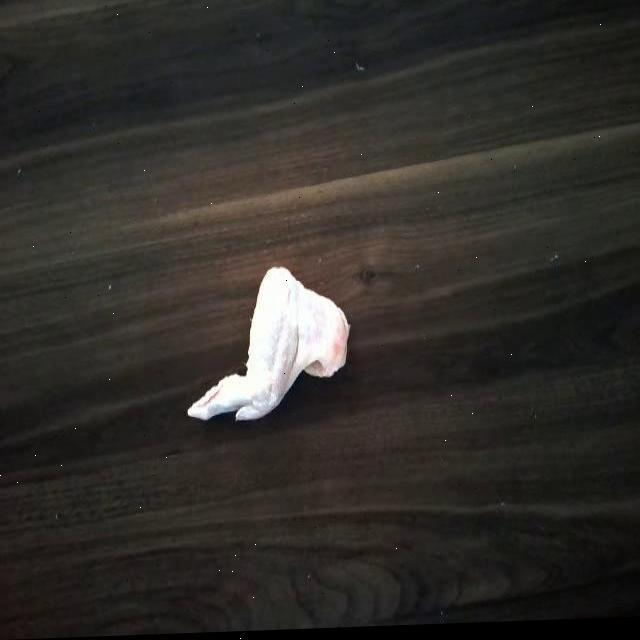wing: (188, 267, 358, 439)
